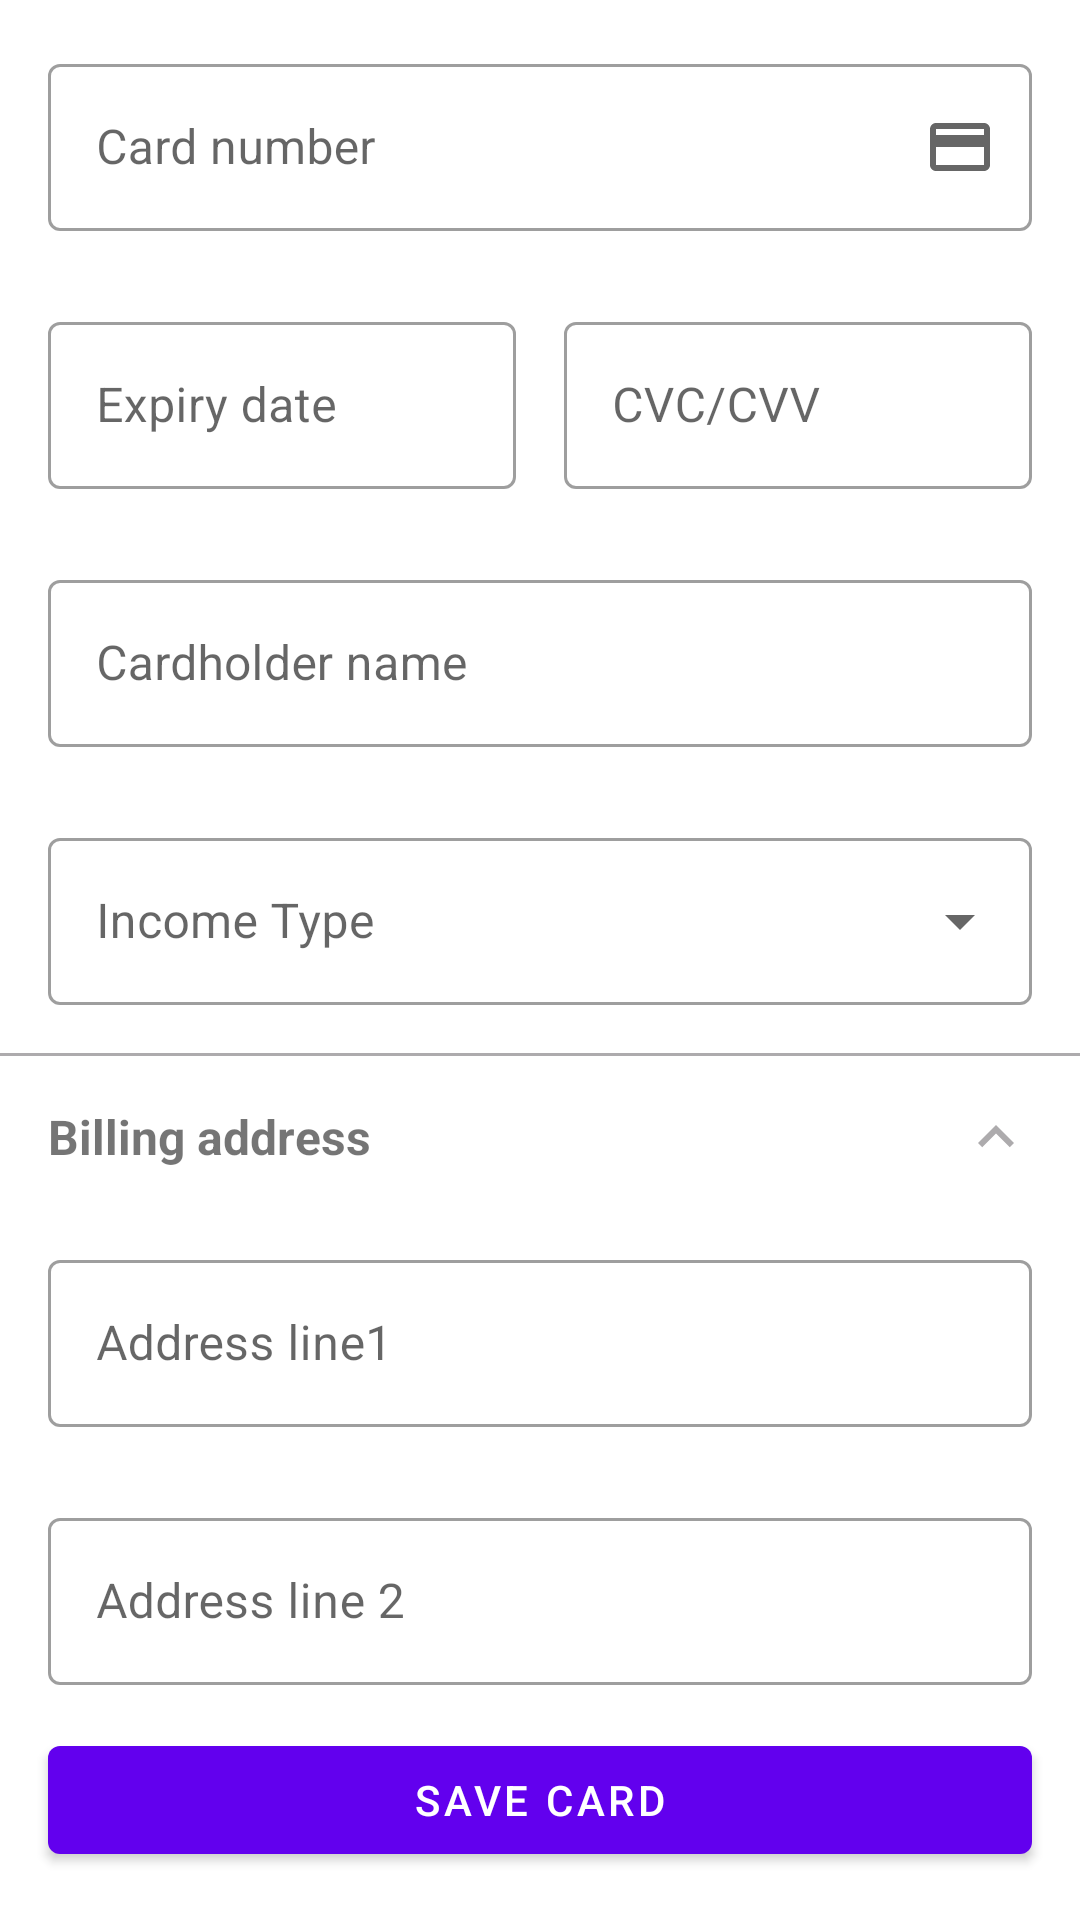

Point at icon controls on the screen. Image size 1080w x 1920h, points as [x,y].
keyboard arrow up: [996,1136]
